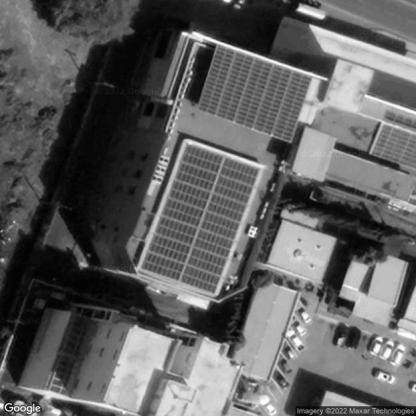solar-pv-panel: (143, 143, 261, 295), (197, 44, 312, 143), (371, 124, 416, 171)
